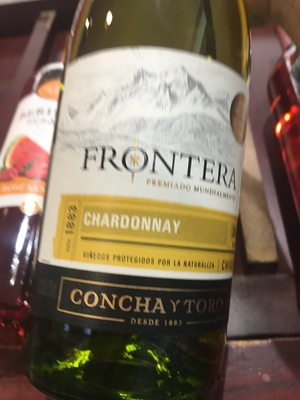frontera chardonnay: (41, 7, 275, 399)
